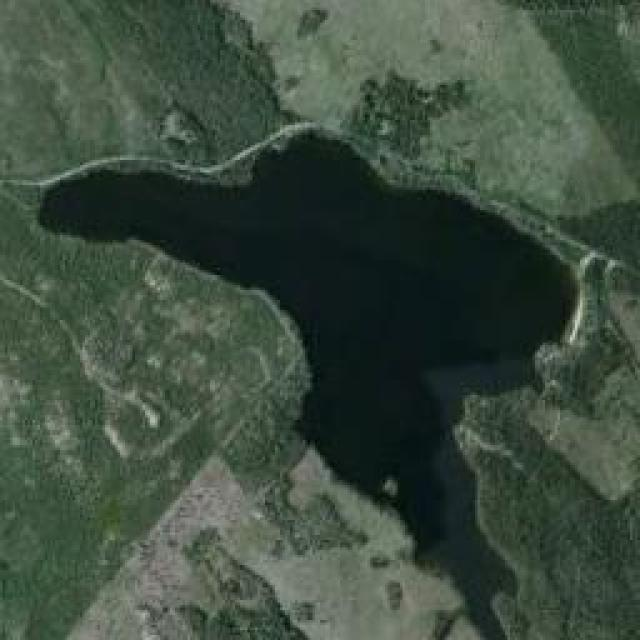Grassland: (0, 0, 638, 638)
Lake: (21, 114, 599, 617)
